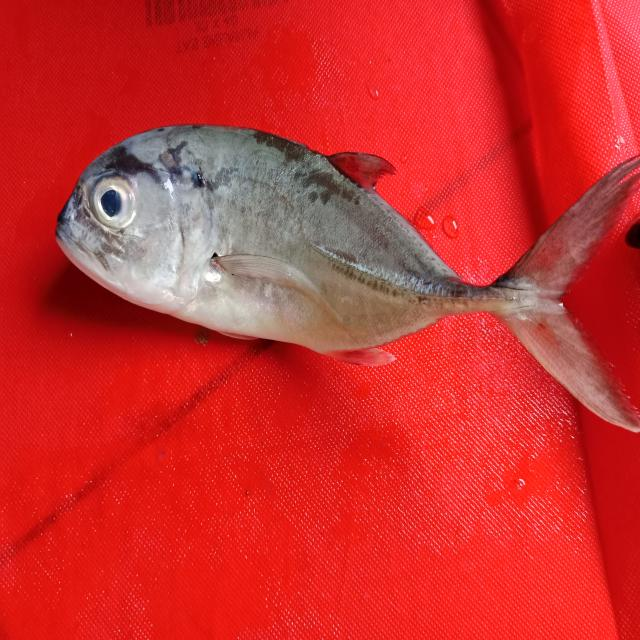ikan: (52, 93, 624, 415)
